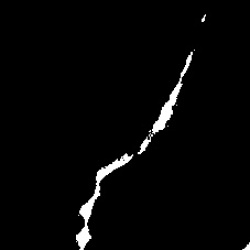crack: (76, 53, 190, 246)
pinhole: (202, 13, 206, 23)
